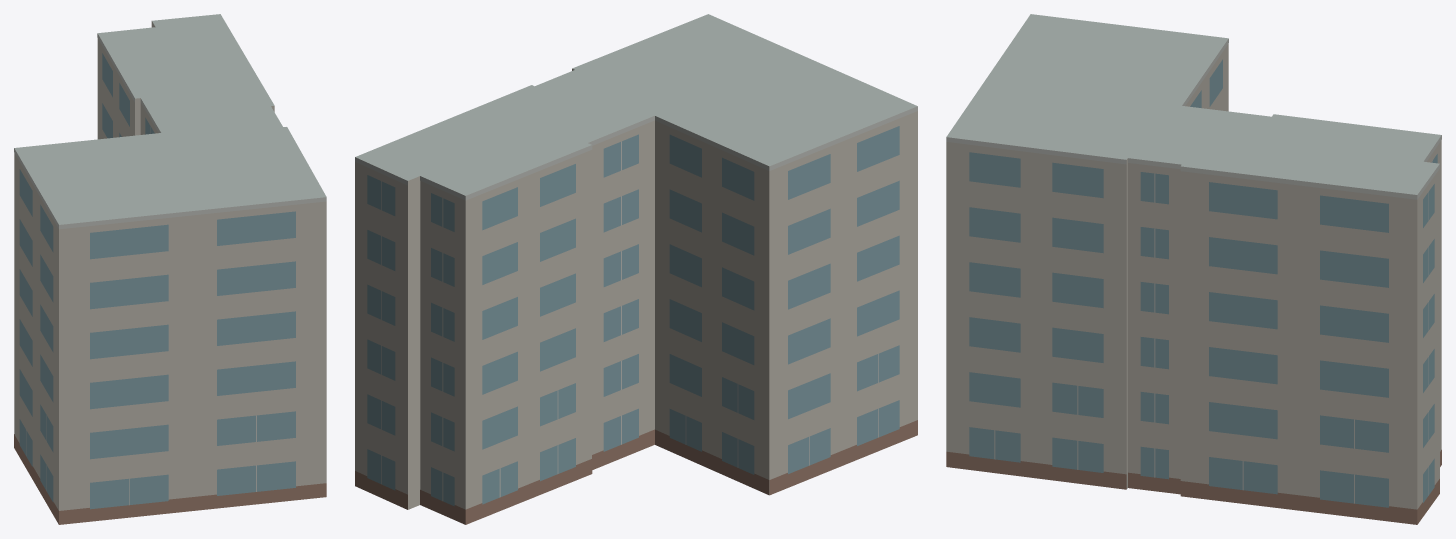
The model's file is survey-upis-32656398.glb.
3 renders of one model, left to right at view 1: azimuth 30°, elevation 25°; view 2: azimuth 150°, elevation 25°; view 3: azimuth 270°, elevation 25°, orthographic. The views are drawn at different scales.
Parts seen in each view (by area): view 1: survey-upis-32656398.tmp; view 2: survey-upis-32656398.tmp; view 3: survey-upis-32656398.tmp.
Part boxes in pixels (box(x1,y1,x2,y2)): survey-upis-32656398.tmp: box(14, 14, 326, 524); survey-upis-32656398.tmp: box(355, 14, 917, 524); survey-upis-32656398.tmp: box(946, 14, 1441, 524).
Bounding box in the file's own units: 20.08 × 17.05 × 23.22.
